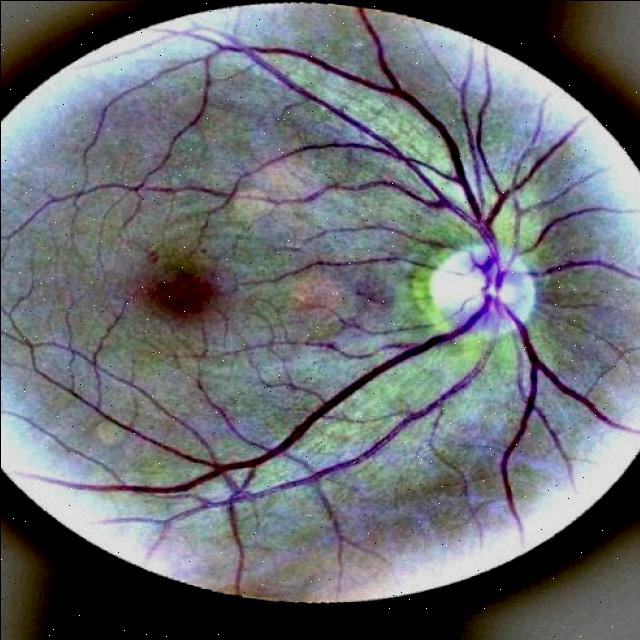Macula: (141, 256, 218, 328)
Nerves: (138, 281, 490, 498), (191, 317, 503, 520), (311, 54, 574, 293), (473, 284, 629, 514), (515, 200, 633, 267), (528, 255, 638, 286)
Optic Disk: (419, 244, 532, 332)
